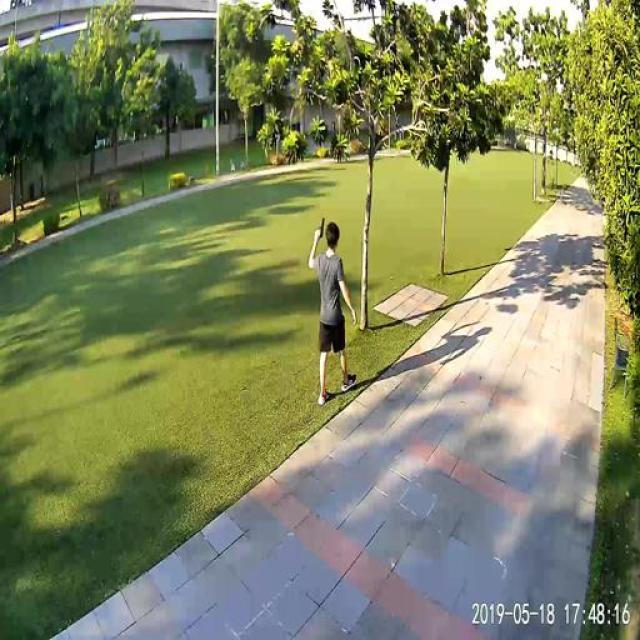Gun: (312, 212, 326, 246)
